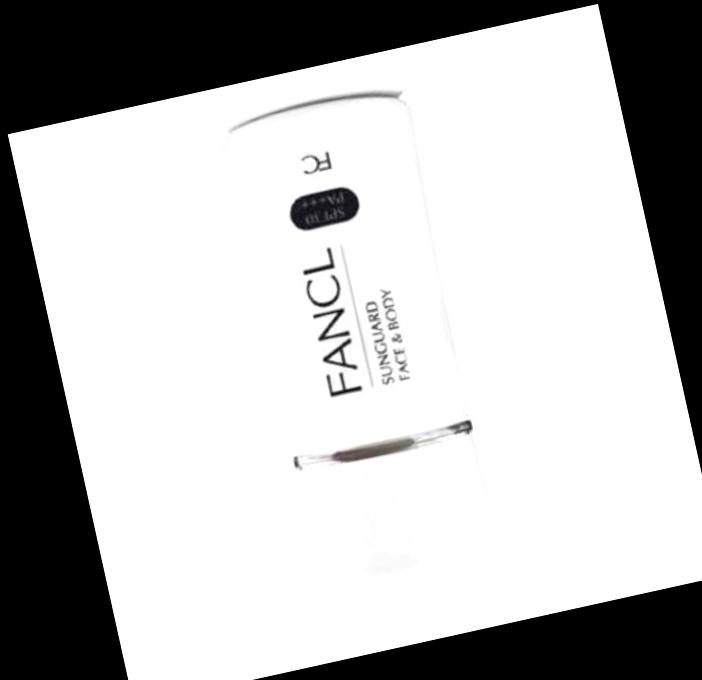cosmetic: (207, 82, 508, 586)
